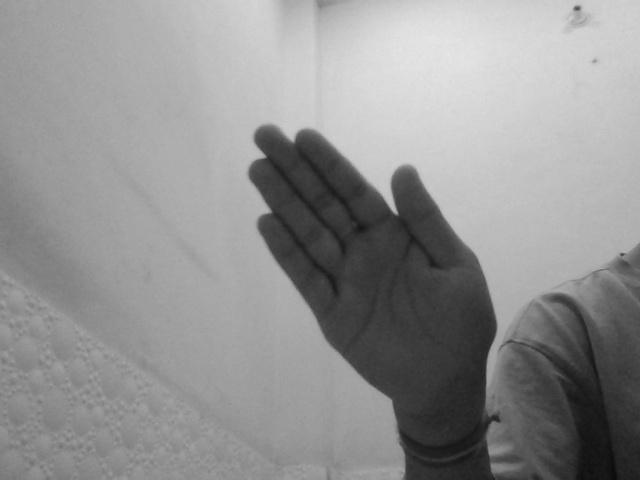Hello: (244, 121, 500, 417)
